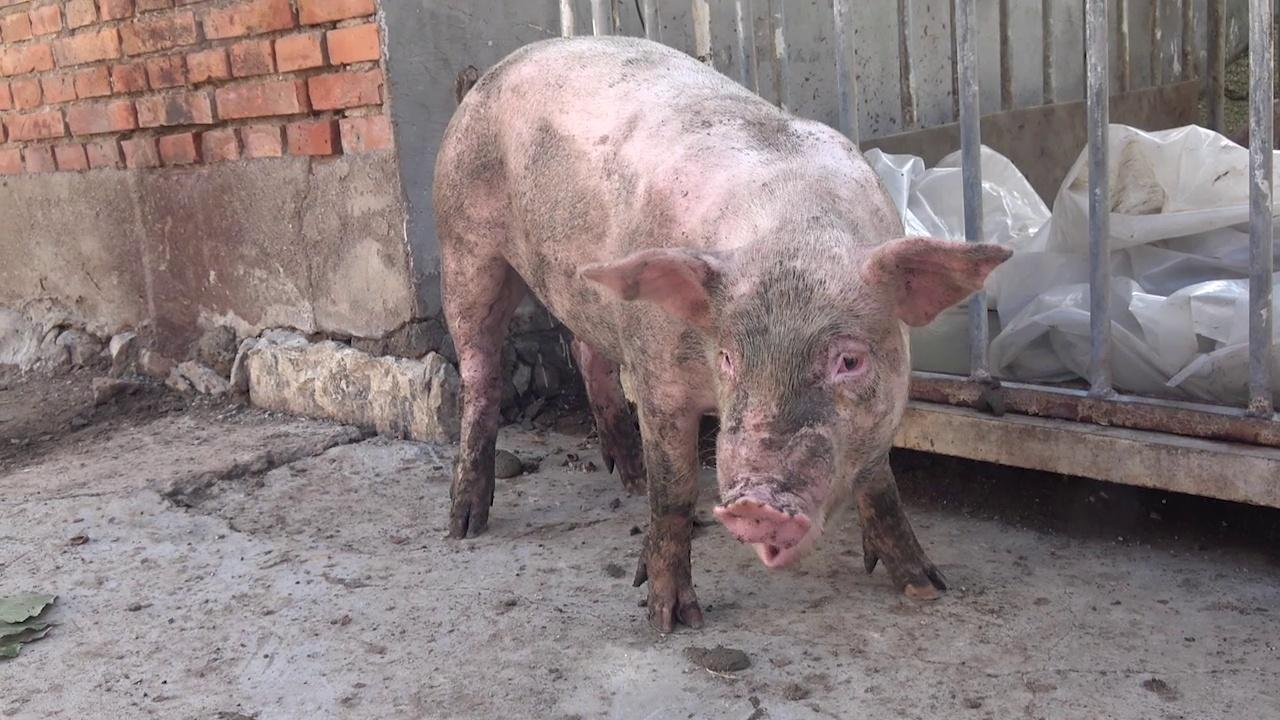Face: (557, 226, 1029, 576)
